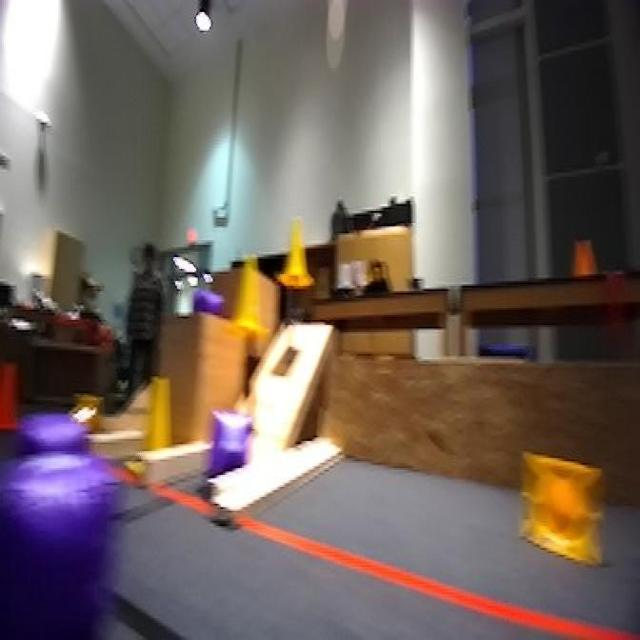frc_cone: (522, 453, 604, 567), (127, 371, 181, 485), (232, 244, 268, 340), (61, 388, 104, 439), (284, 219, 310, 298)
frc_cube: (0, 449, 123, 640), (10, 414, 86, 463), (202, 416, 247, 496), (182, 290, 225, 316)
